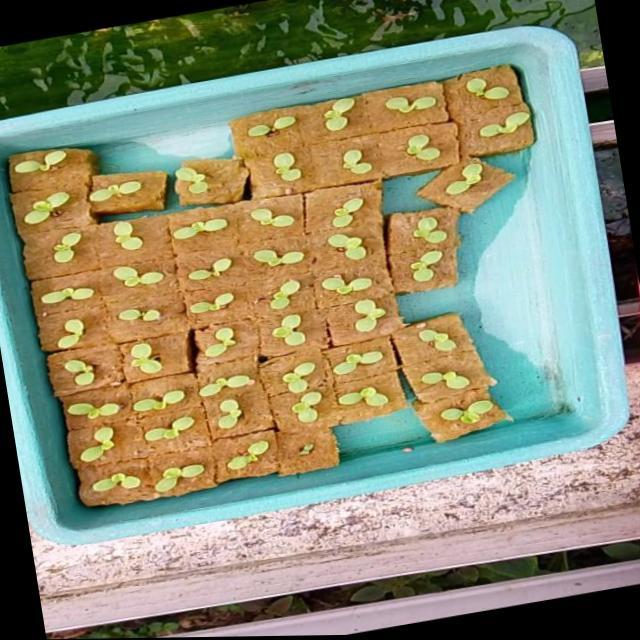Baby: (436, 161, 488, 205), (48, 225, 105, 264), (459, 74, 523, 108), (460, 105, 511, 140), (327, 266, 376, 298), (115, 306, 175, 332), (329, 348, 383, 375), (331, 233, 385, 260), (198, 326, 243, 358), (58, 358, 98, 393), (156, 463, 205, 491), (389, 94, 449, 116), (440, 396, 492, 421), (66, 401, 125, 423), (227, 439, 269, 468), (199, 374, 254, 396), (416, 209, 450, 243), (189, 256, 237, 280), (134, 389, 186, 410), (83, 426, 115, 460), (354, 298, 386, 331), (131, 342, 164, 374), (327, 99, 358, 133), (283, 360, 315, 392), (272, 313, 305, 344), (118, 266, 168, 286), (193, 291, 237, 313), (272, 278, 303, 309), (336, 196, 366, 228), (95, 470, 143, 489), (256, 248, 306, 266), (292, 388, 321, 419), (417, 327, 455, 350), (420, 368, 468, 386), (406, 136, 439, 162), (341, 388, 388, 406), (117, 222, 147, 250), (46, 286, 98, 302), (276, 153, 305, 181), (411, 257, 444, 281), (63, 319, 89, 348), (345, 149, 374, 174), (218, 398, 242, 428), (147, 422, 186, 439), (256, 209, 289, 227)
